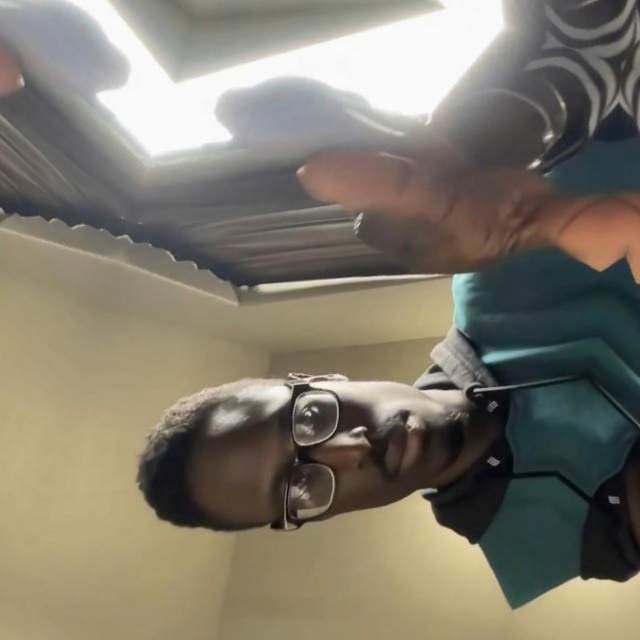Paper: (259, 0, 640, 77)
